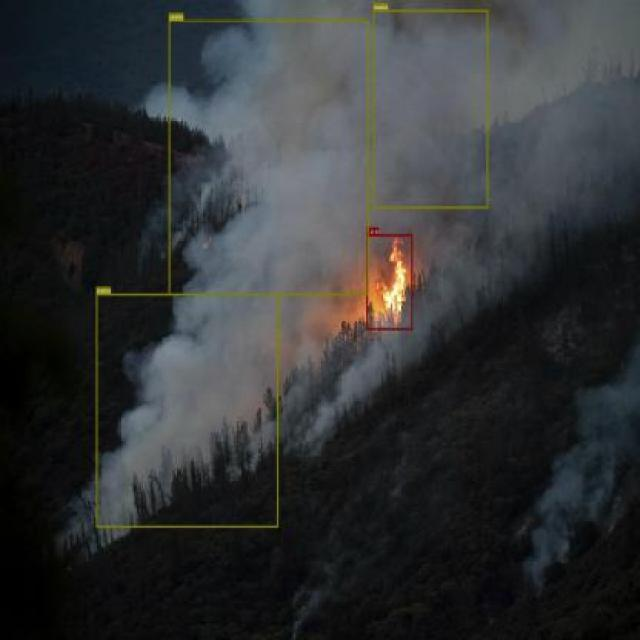Fire: (366, 233, 412, 330)
Smoke: (168, 19, 368, 295), (95, 293, 278, 527), (512, 15, 636, 216), (373, 9, 489, 208), (296, 302, 374, 412), (436, 224, 520, 305), (529, 470, 595, 564), (579, 383, 634, 471)
